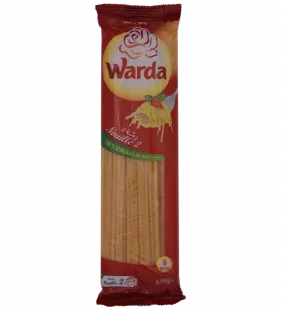LA ROSE BLANCHE: (86, 0, 194, 310)
